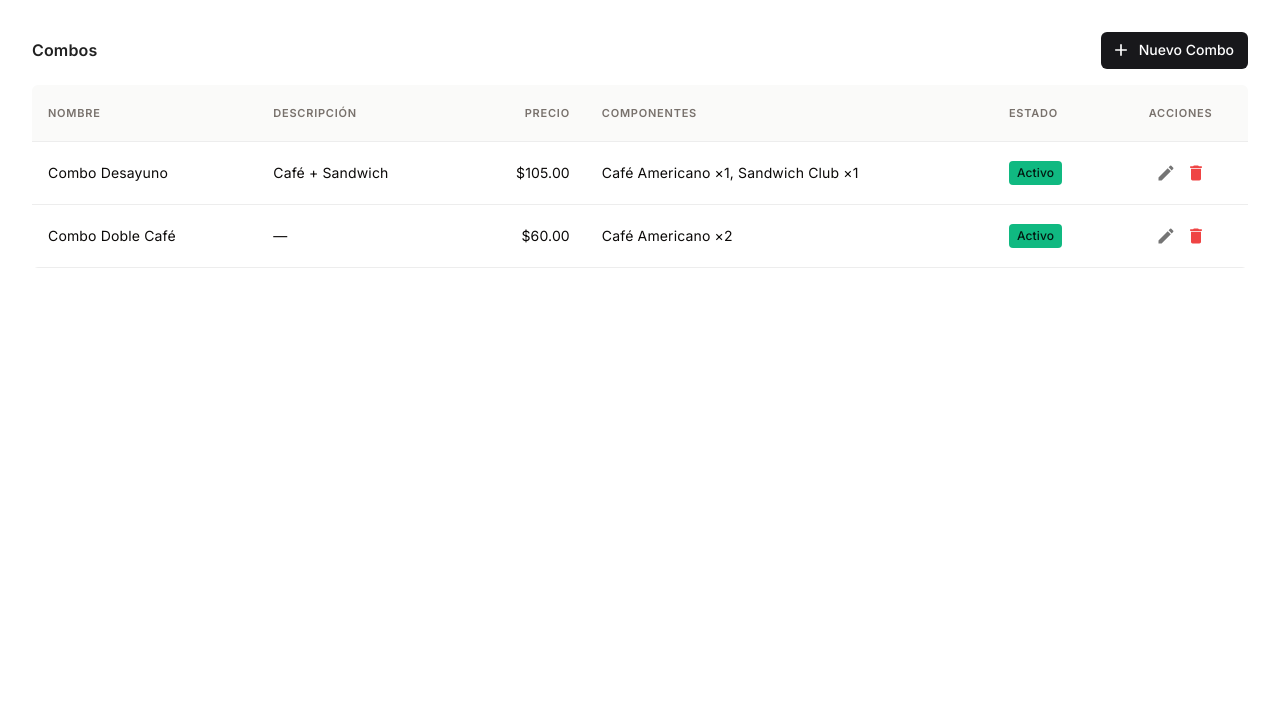
Test: ComboList › opens edit form with existing data
The width and height of the screenshot is (1280, 720).
Check: the text "Combo Desayuno" is shown, box left=32, top=141, right=257, bottom=204
Step 1. Click the button named "editar Combo Desayuno" → (1166, 172), box left=1151, top=158, right=1181, bottom=188
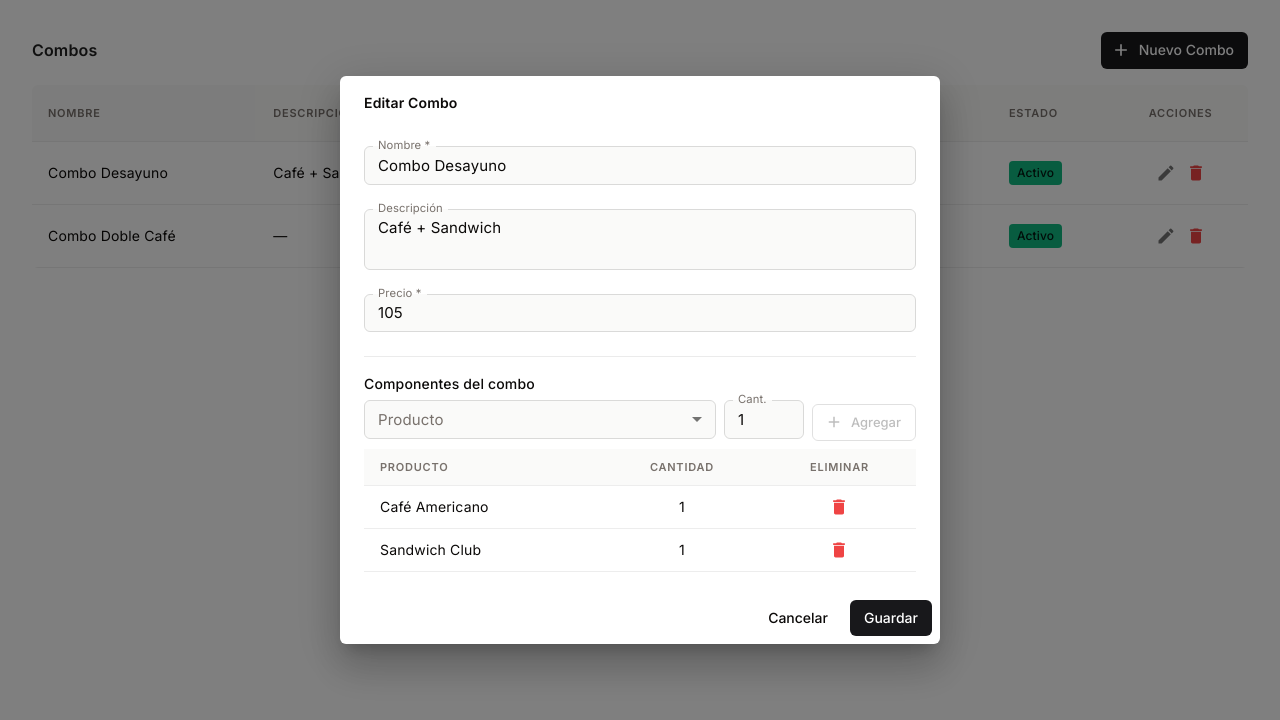
Check: the dialog is shown, box left=340, top=76, right=940, bottom=644
Check: the field named "nombre combo" holds "Combo Desayuno", box left=364, top=146, right=916, bottom=185
